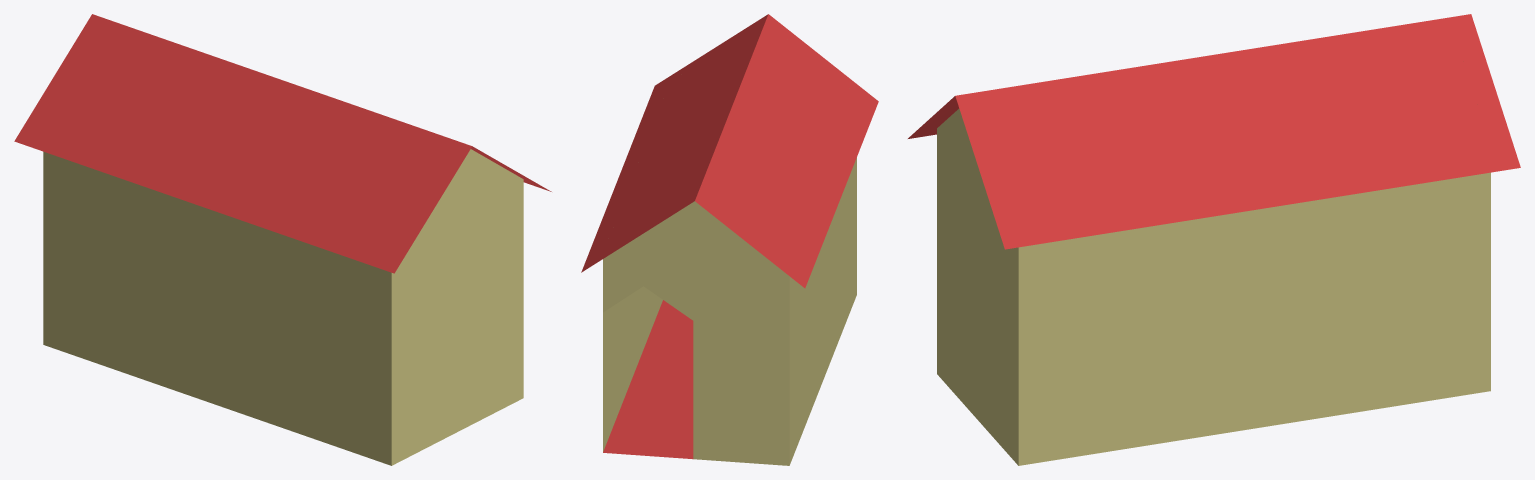
3 renders of one model, left to right at view 1: azimuth 30°, elevation 25°; view 2: azimuth 150°, elevation 25°; view 3: azimuth 270°, elevation 25°, orthographic. The views are drawn at different scales.
Size of the model in its own units: 19.55 by 26.41 by 15.52.
